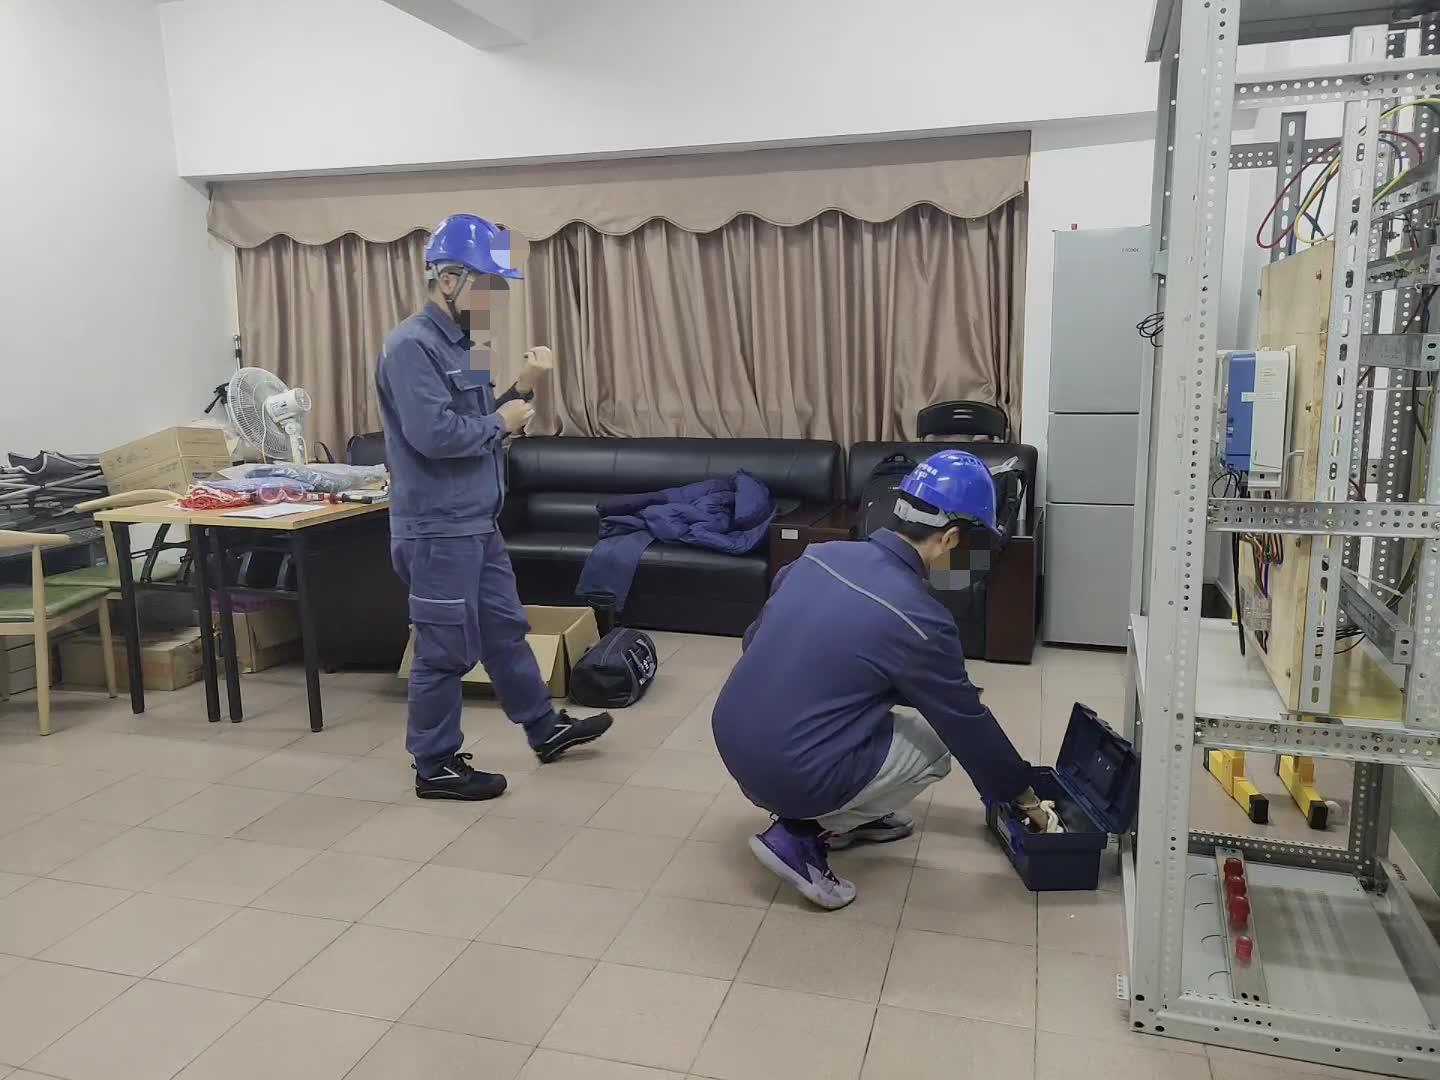halt: (892, 449, 1006, 581), (423, 217, 526, 323)
inear: (435, 265, 475, 311)
noear: (931, 528, 971, 581)
